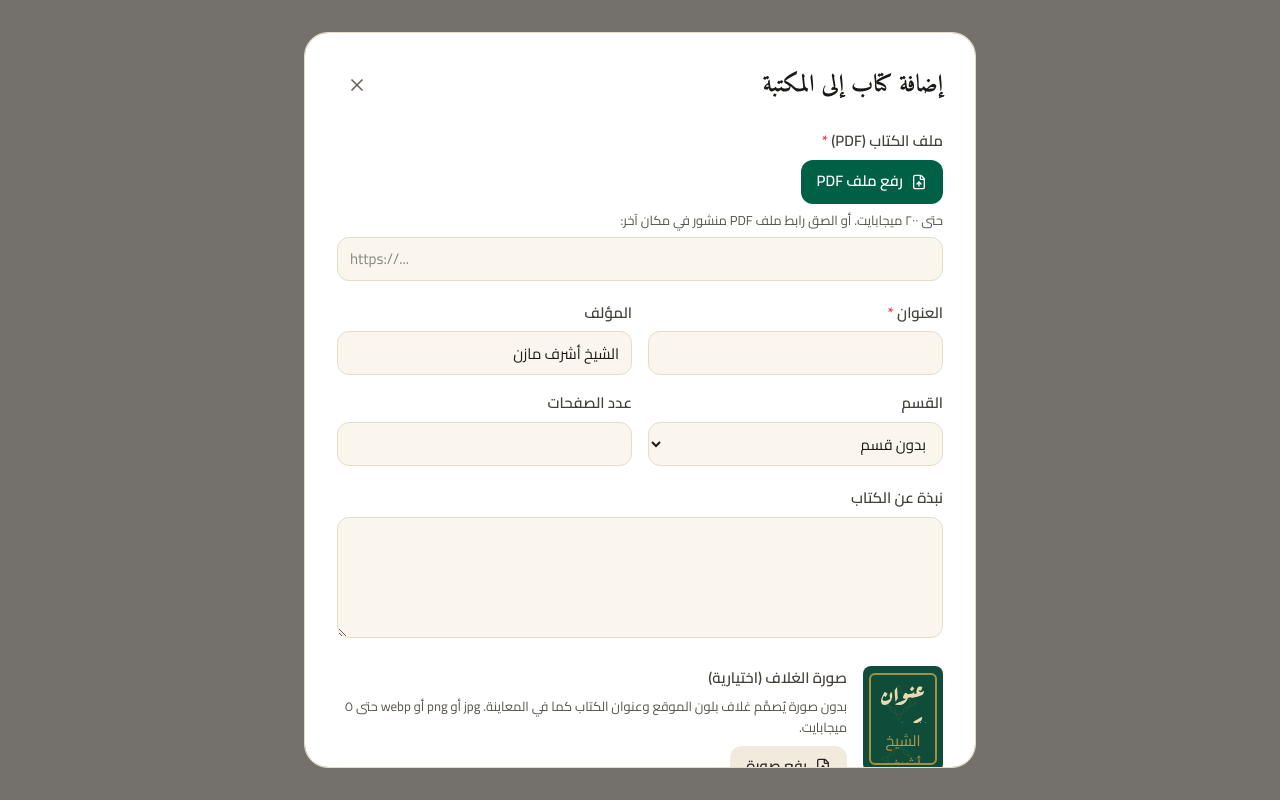
Test case: BookModal › refuses a book without a PDF
Type "كتاب" into the field with id "book-title" at [796, 353], box top-left (648, 331), bottom-right (943, 375)
(page scrolled)
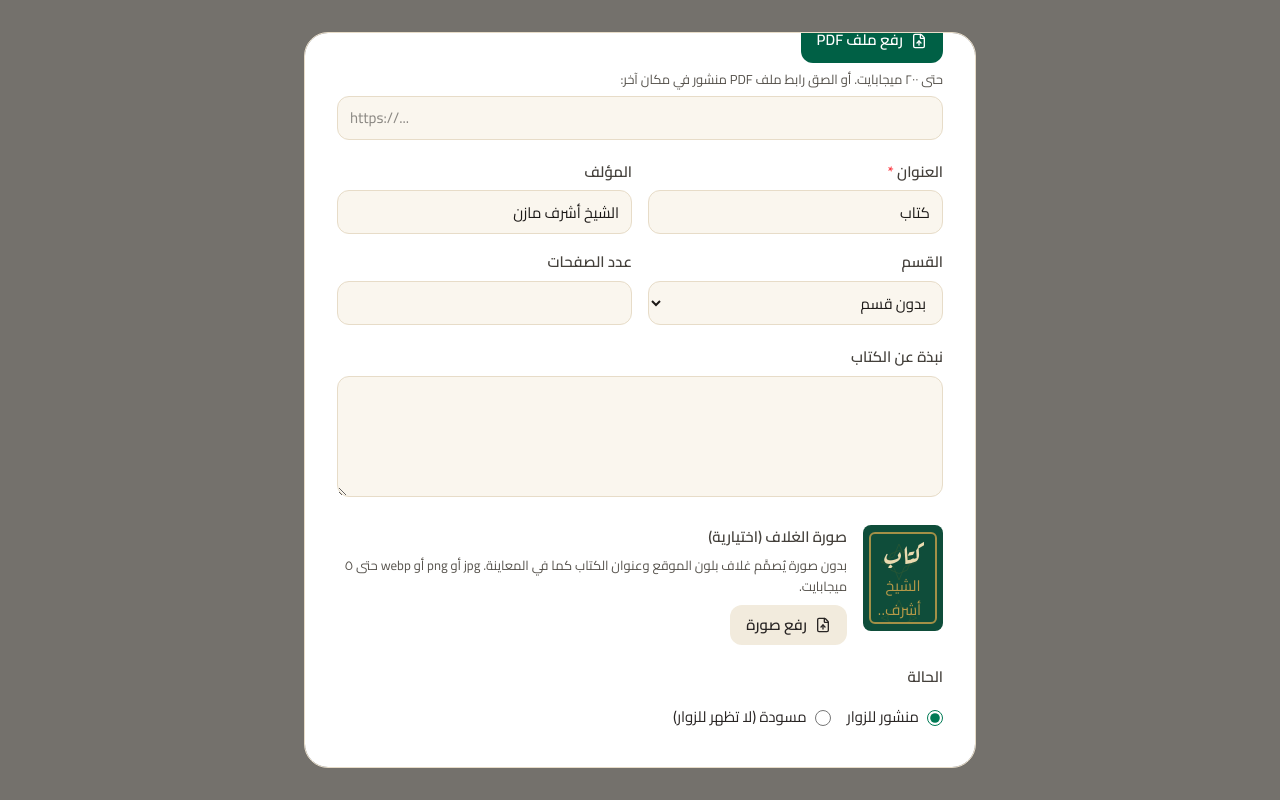
Submit the form
(page scrolled)
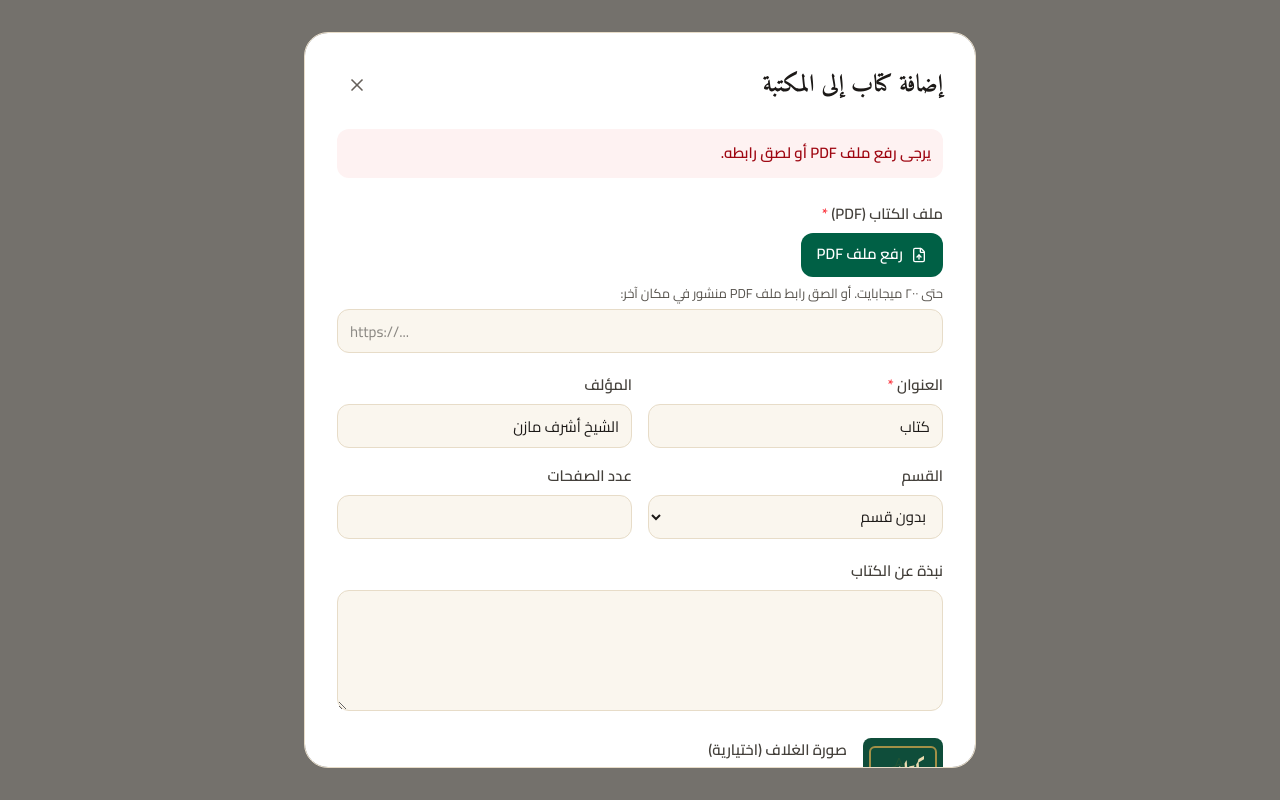
Expected: the text "يرجى رفع ملف PDF أو لصق رابطه." is shown, top-left (337, 129), bottom-right (943, 178)
